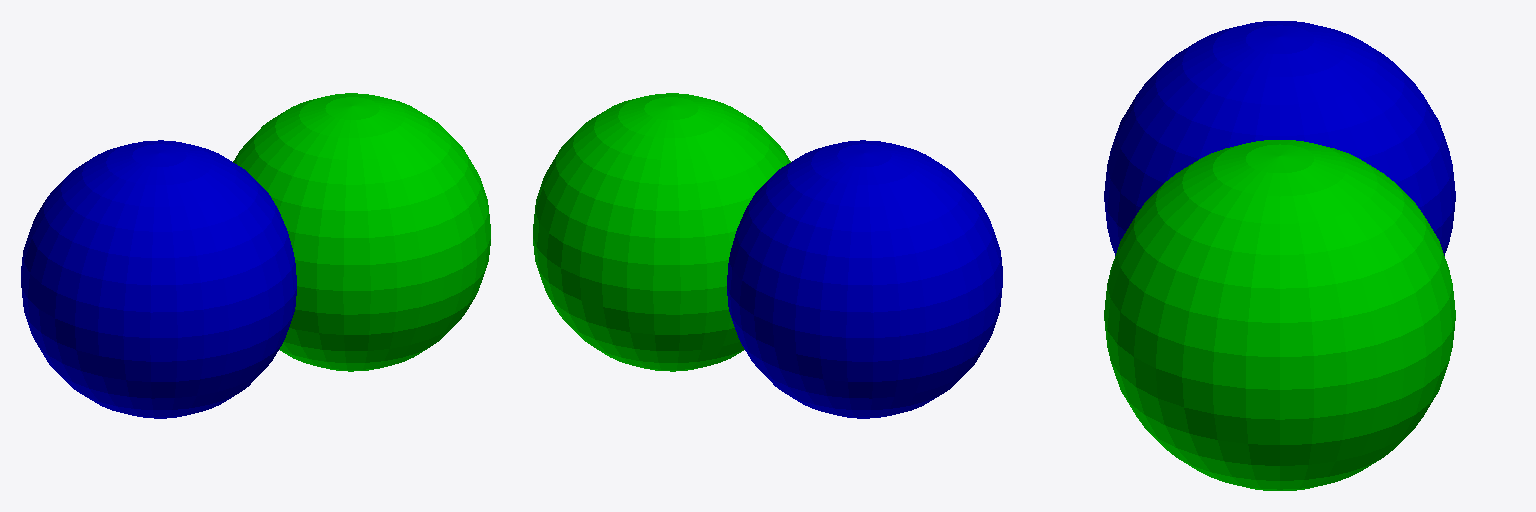
The robot description file, URDF, robot "A_vs_B":
<?xml version="1.0"?>
<robot name="A_vs_B">
  <material name="blue">
    <color rgba="0 0 0.8 .5"/>
  </material>
  <material name="green">
    <color rgba="0 0.8 0 .5"/>
  </material>
  <link name="A">
    <visual>
      <geometry>
        <sphere radius="1"/>
      </geometry>
      <origin rpy="0.0 0 0" xyz="-0.8 0 0"/>
      <material name="blue"/>
    </visual>
    <collision>
      <geometry>
        <sphere radius="1"/>
      </geometry>
      <origin rpy="0.0 0 0" xyz="-0.8 0 0"/>
      <material name="blue"/>
    </collision>
  </link>
  <link name="B">
    <visual>
      <geometry>
        <sphere radius="1"/>
      </geometry>
      <origin rpy="0 0 0" xyz="0.8 0 0"/>
      <material name="green"/>
    </visual>
    <collision>
      <geometry>
        <sphere radius="1"/>
      </geometry>
      <origin rpy="0 0 0" xyz="0.8 0 0"/>
      <material name="green"/>
    </collision>
  </link>
  <joint name="joint1" type="revolute">
    <axis xyz="0 0 1"/>
    <limit effort="1" lower="-1" upper="1" velocity="1"/>
    <origin rpy="0 0 0" xyz="0 0 0"/>
    <parent link="A"/>
    <child link="B"/>
  </joint>
</robot>

--- Facts derived from the render (not from the file) ---
The picture shows the robot from 3 angles, left to right: view 1: azimuth 30°, elevation 25°; view 2: azimuth 150°, elevation 25°; view 3: azimuth 270°, elevation 25°; orthographic projection.
Model A_vs_B with 2 links and 1 joints (1 revolute), rooted at A, posed all joints at 0.
Links seen in each view (by area): view 1: A, B; view 2: A, B; view 3: B, A.
Link boxes in pixels (bbox=[...]): A: bbox=[21, 140, 296, 418]; B: bbox=[233, 93, 490, 371]; A: bbox=[727, 140, 1002, 418]; B: bbox=[533, 93, 790, 371]; B: bbox=[1104, 140, 1455, 490]; A: bbox=[1104, 21, 1455, 255].
Bounding box of the posed robot: 3.6 × 2 × 2 m (x, y, z).
Geometry: primitives only (box / cylinder / sphere), no mesh files.